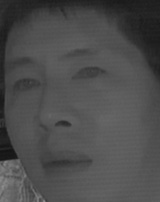eye: (70, 63, 106, 86), (8, 74, 40, 96)
mouth: (38, 144, 94, 177)
